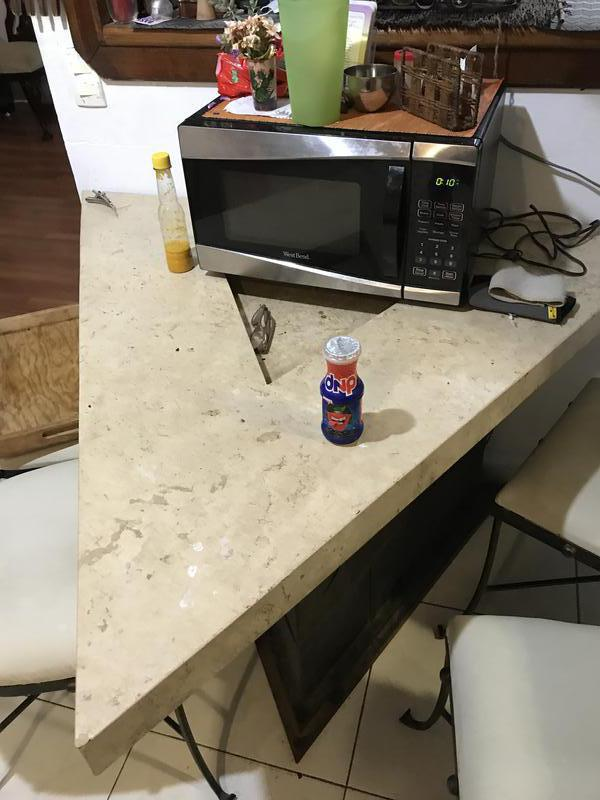danup: (319, 337, 369, 448)
